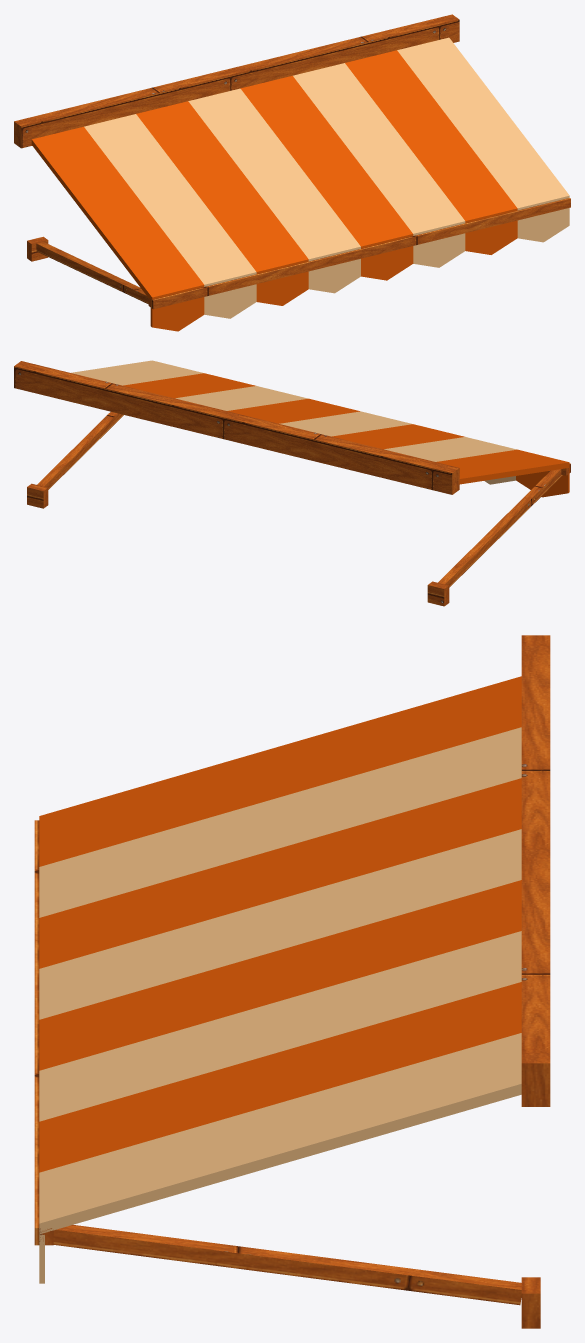
Rendered from Awning.fbx.
3 views of the same model, one above another, from view 1: azimuth 30°, elevation 25°; view 2: azimuth 150°, elevation 25°; view 3: azimuth 270°, elevation 25° (orthographic). The views are drawn at different scales.
Parts seen in each view (by area): view 1: Awning; view 2: Awning; view 3: Awning.
Part boxes in pixels (bbox=[...]): Awning: bbox=[14, 14, 570, 331]; Awning: bbox=[14, 360, 570, 606]; Awning: bbox=[34, 635, 550, 1328].
Bounding box in the file's own units: 2.1 × 0.63 × 1.07.
